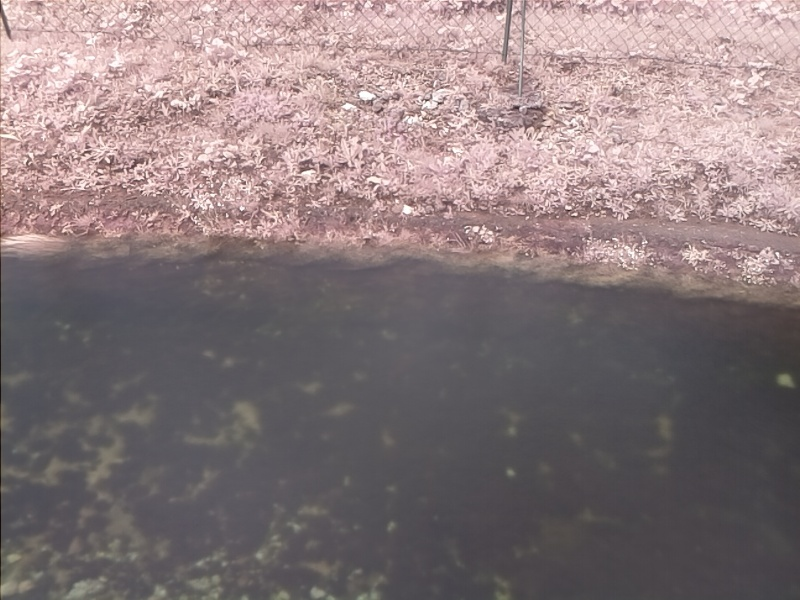Water: (1, 231, 796, 600)
